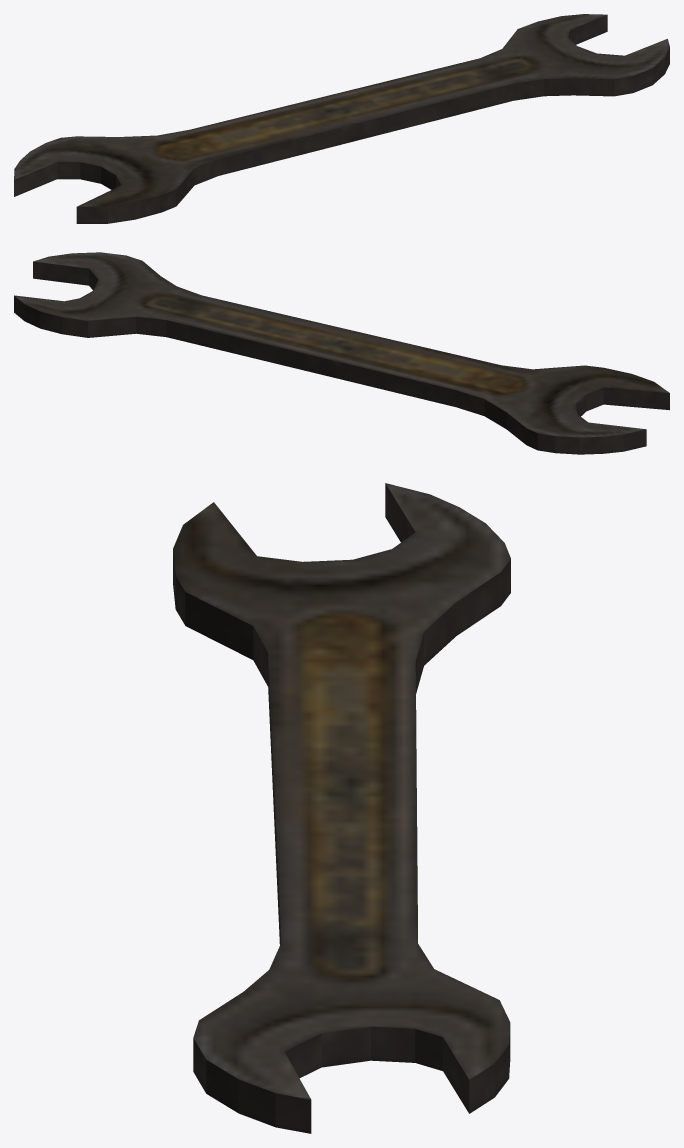
Rendered from wrench_mx_1.dae.
The picture shows the model from 3 angles, top to bottom: view 1: azimuth 30°, elevation 25°; view 2: azimuth 150°, elevation 25°; view 3: azimuth 270°, elevation 25°; orthographic projection. The views are drawn at different scales.
Parts seen in each view (by area): view 1: wrench_mx_1; view 2: wrench_mx_1; view 3: wrench_mx_1.
Part boxes in pixels (<box>): wrench_mx_1: <box>14,14,669,223</box>; wrench_mx_1: <box>14,252,669,454</box>; wrench_mx_1: <box>173,483,510,1133</box>.
Bounding box in the file's own units: 0.3877 × 0.0898 × 0.01.
Materials: 1 (1 with a texture image).
